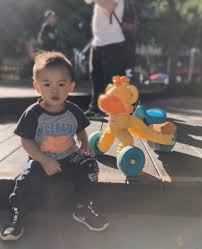people: (11, 54, 109, 233), (86, 1, 130, 121), (39, 10, 61, 51)
